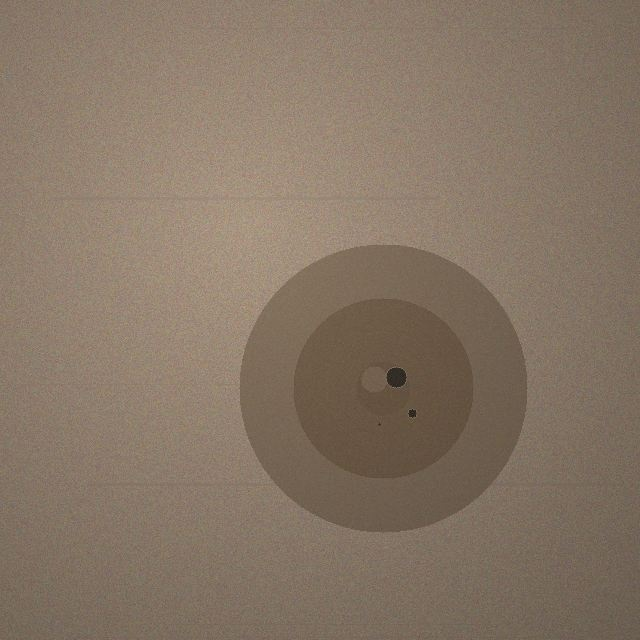shrinkage: (239, 244, 527, 532)
